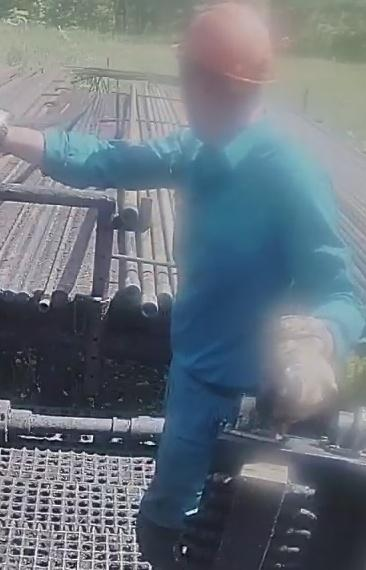gloves: (265, 308, 349, 424)
helmet: (172, 4, 281, 87)
vest: (165, 128, 340, 394)
